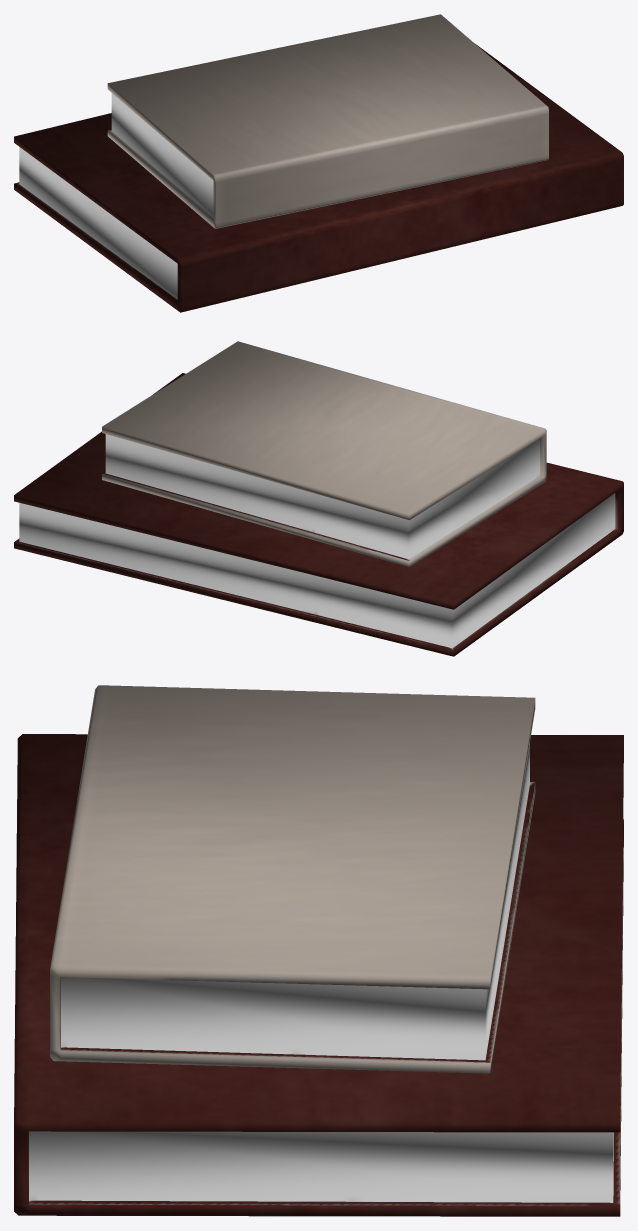
Rendered from Shelf_props_2books.fbx.
The picture shows the model from 3 angles, top to bottom: view 1: azimuth 30°, elevation 25°; view 2: azimuth 150°, elevation 25°; view 3: azimuth 270°, elevation 25°; orthographic projection. The views are drawn at different scales.
Visible parts, largest first — view 1: Cylinder.024; view 2: Cylinder.024; view 3: Cylinder.024.
Boxes of the visible parts, x1,y1,x2,y2 form: Cylinder.024: [14, 14, 623, 312]; Cylinder.024: [14, 341, 623, 656]; Cylinder.024: [14, 685, 623, 1216].
Size of the model in its own units: 32.05 by 7.46 by 21.33.
